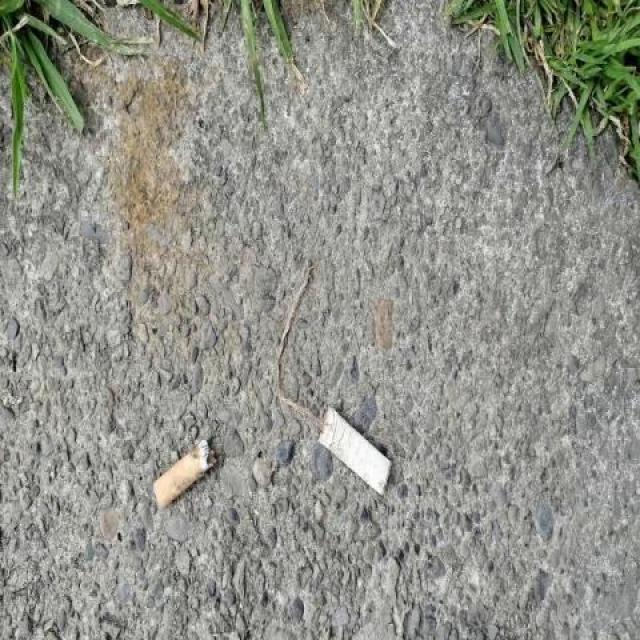non-organic waste: (314, 401, 398, 506), (150, 435, 218, 512)
